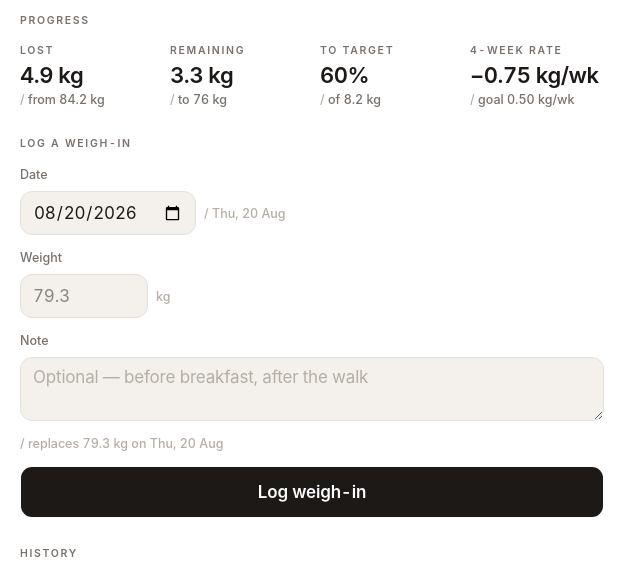
Scenario: logging a weigh-in › refuses an empty weight rather than logging nothing
(page scrolled)
Click the button "Log weigh-in". click: (312, 492)
box: [20,466,604,518]
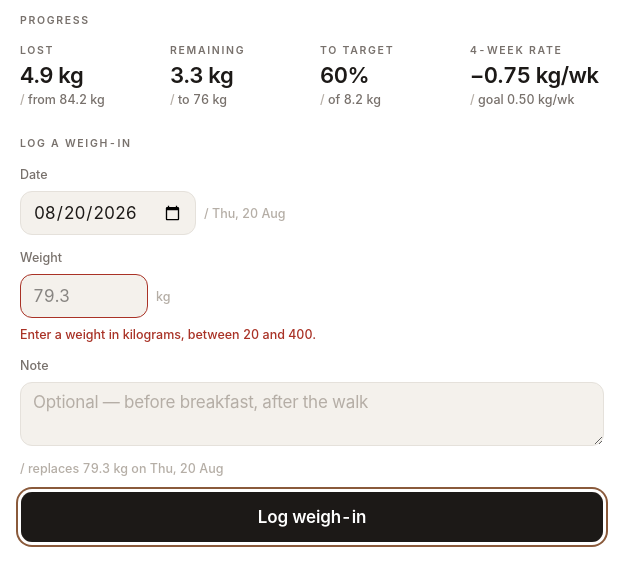
Expected: the message "Enter a weight in kilograms, between 20 and 400." is shown, [20,327,316,342]
